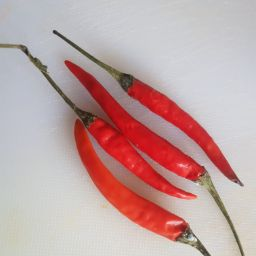Cayenne pepper: (3, 28, 256, 256)
